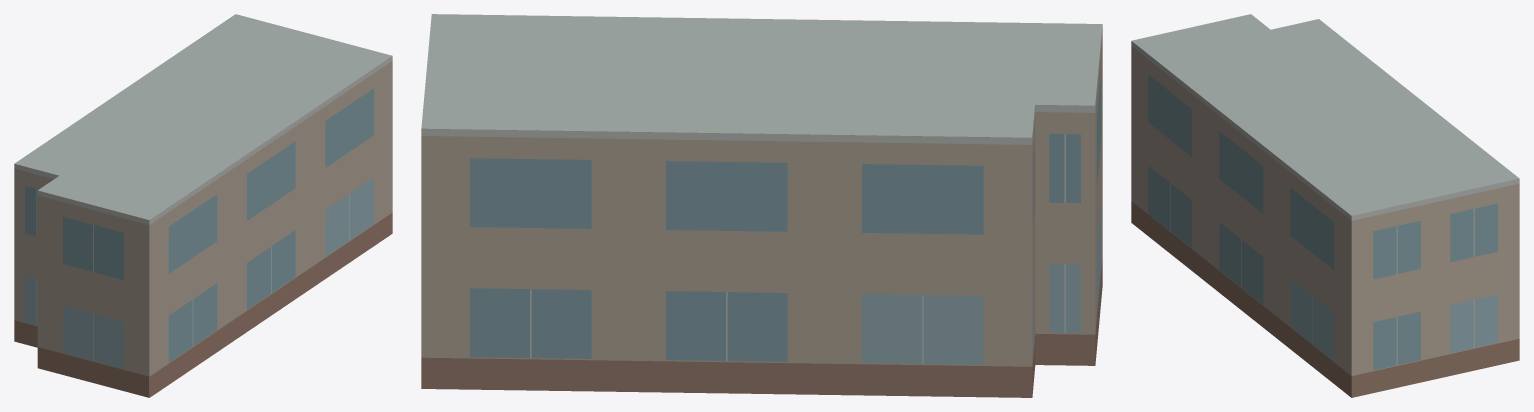
File: survey-upis-32841121.glb
3 renders of one model, left to right at view 1: azimuth 30°, elevation 25°; view 2: azimuth 150°, elevation 25°; view 3: azimuth 270°, elevation 25°, orthographic. The views are drawn at different scales.
Parts seen in each view (by area): view 1: survey-upis-32841121.tmp; view 2: survey-upis-32841121.tmp; view 3: survey-upis-32841121.tmp.
Part boxes in pixels (<box>): survey-upis-32841121.tmp: <box>14,14,392,397</box>; survey-upis-32841121.tmp: <box>421,14,1102,397</box>; survey-upis-32841121.tmp: <box>1131,14,1519,397</box>.
Bounding box in the file's own units: 20.95 × 8.8 × 17.03.
